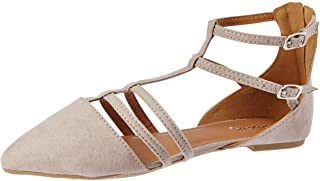shoes: (1, 1, 320, 181)
